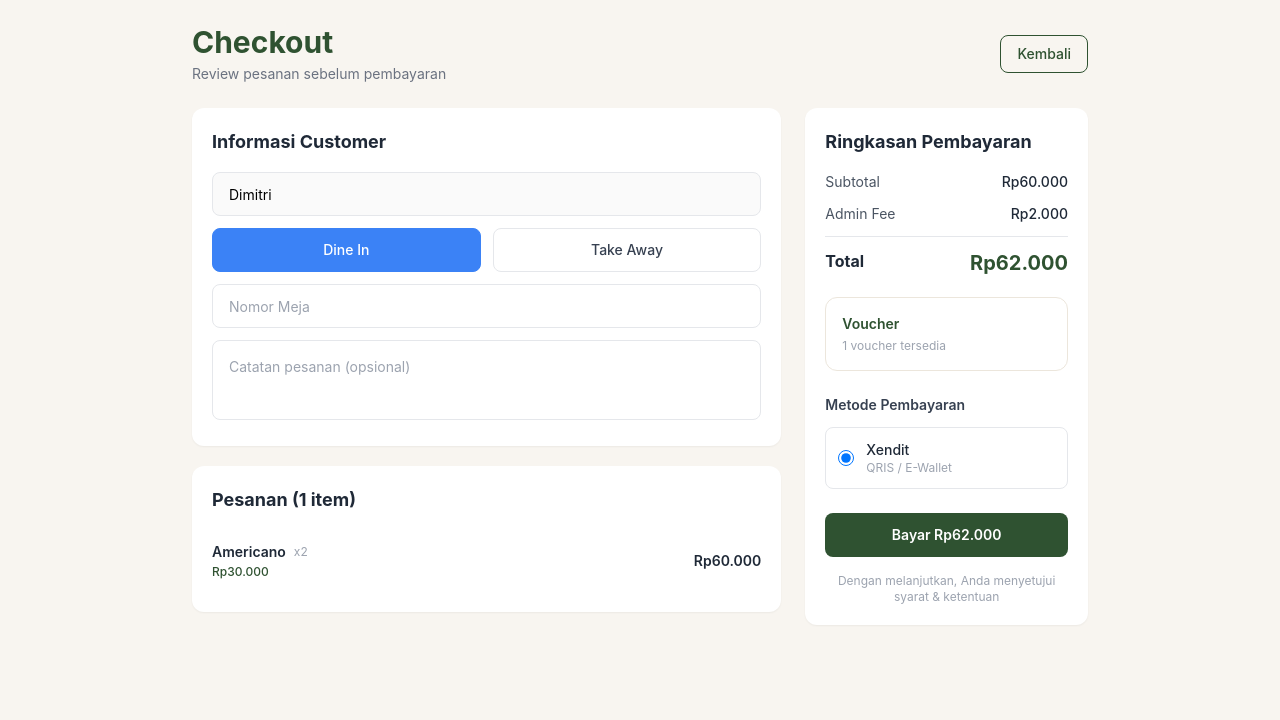
Test: Checkout Page › menghitung total pembayaran setelah voucher digunakan
Click the button "Voucher 1 voucher tersedia".
click(947, 334)  # box [825, 297, 1068, 371]
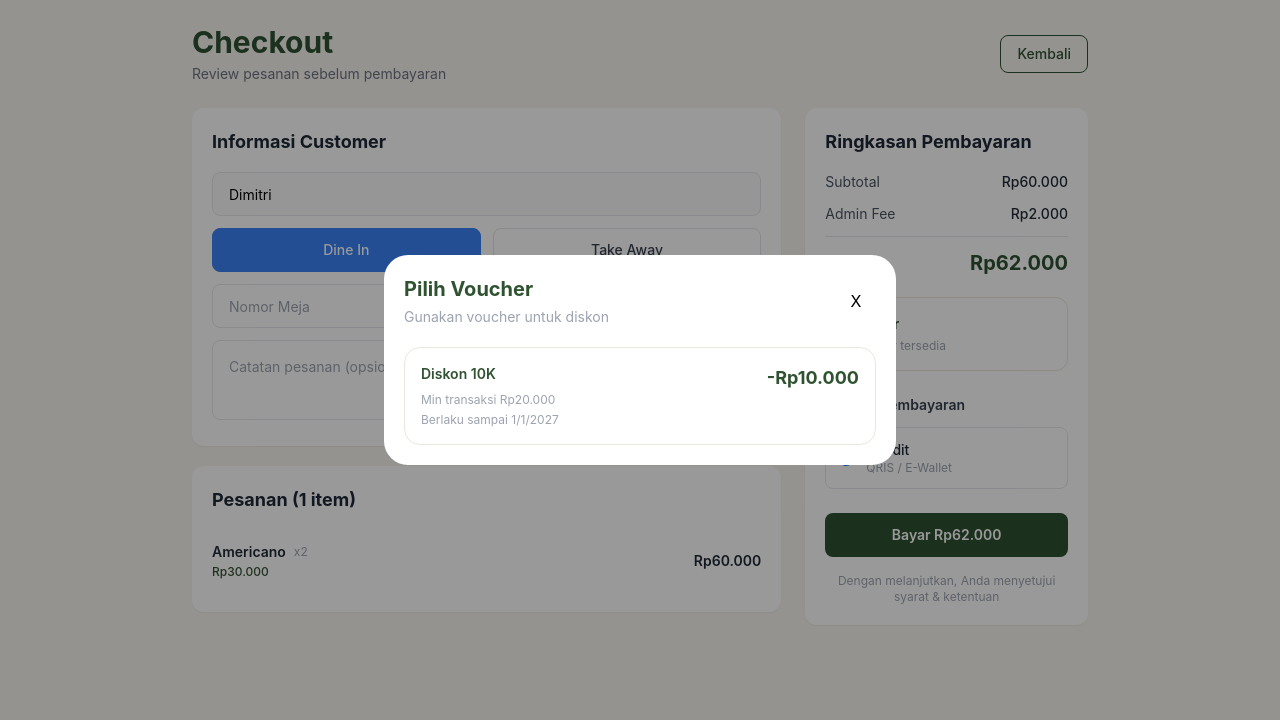
Click the button "Diskon 10K".
click(458, 374)  # box [404, 347, 876, 445]
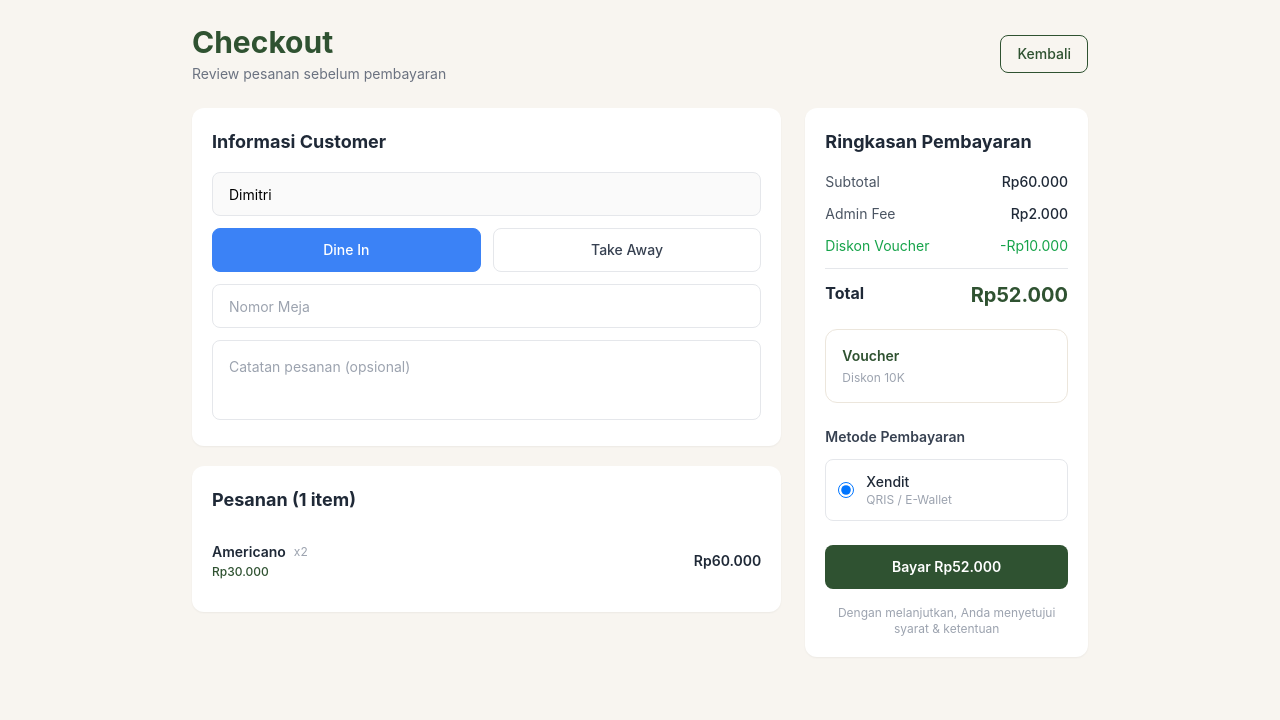
Expected: the button "Bayar Rp52.000" is shown, [825, 545, 1068, 589]
